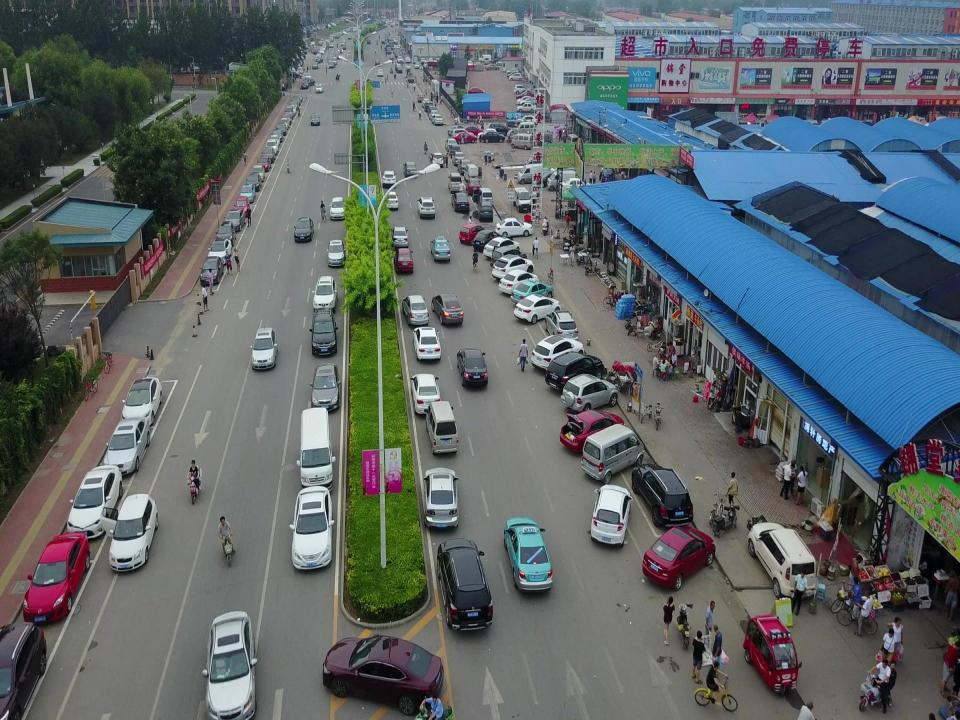car: (322, 636, 444, 710), (24, 532, 88, 620), (747, 520, 817, 597), (642, 517, 716, 587), (438, 539, 494, 629), (209, 609, 255, 718), (630, 463, 692, 526), (67, 465, 122, 536), (109, 494, 157, 571), (503, 517, 552, 591), (294, 487, 332, 566), (103, 416, 149, 473), (591, 485, 627, 546), (117, 377, 162, 424), (424, 468, 458, 529), (545, 353, 609, 385), (531, 337, 585, 364), (310, 363, 340, 409), (514, 293, 562, 321), (311, 310, 338, 355), (456, 349, 488, 386), (543, 305, 578, 338), (411, 375, 441, 412), (492, 255, 536, 278), (252, 327, 276, 368), (498, 268, 540, 291), (414, 327, 442, 360), (431, 295, 465, 322), (511, 280, 555, 300), (402, 295, 430, 323), (481, 234, 521, 253), (490, 246, 528, 266), (314, 276, 336, 310), (473, 228, 513, 244), (495, 218, 533, 234), (201, 256, 223, 283), (458, 222, 484, 242), (430, 238, 452, 260), (327, 240, 345, 266), (394, 248, 414, 270), (210, 241, 229, 264), (295, 218, 313, 240), (330, 197, 346, 221), (216, 221, 234, 242), (417, 196, 435, 216), (452, 194, 470, 212), (393, 226, 409, 246), (452, 132, 478, 144), (462, 122, 484, 136), (480, 130, 504, 142), (226, 209, 242, 227), (487, 121, 511, 133), (384, 191, 399, 210), (235, 197, 249, 216), (516, 115, 538, 126), (402, 161, 418, 176), (479, 203, 493, 220), (247, 174, 261, 190), (516, 102, 536, 113), (382, 170, 396, 185), (250, 165, 264, 180), (241, 185, 254, 201), (506, 118, 526, 128), (515, 96, 537, 105), (256, 154, 270, 168), (466, 178, 480, 192), (539, 132, 551, 148), (446, 124, 466, 133), (515, 89, 535, 98), (451, 151, 467, 162), (458, 159, 471, 172), (514, 84, 532, 93), (468, 86, 486, 95), (432, 153, 444, 166), (445, 136, 457, 148), (432, 114, 444, 125), (265, 140, 277, 151), (262, 148, 274, 159), (310, 113, 320, 126), (448, 147, 462, 156), (268, 136, 280, 146), (508, 72, 522, 80), (281, 112, 292, 122), (276, 123, 286, 134), (272, 129, 283, 139), (286, 104, 296, 114), (485, 64, 499, 71), (290, 70, 302, 78), (427, 104, 437, 113), (428, 110, 440, 117), (290, 100, 299, 109), (284, 107, 293, 116), (422, 100, 432, 108), (305, 78, 315, 86), (301, 80, 309, 89), (280, 117, 288, 126), (293, 93, 303, 100), (418, 93, 425, 103), (317, 83, 323, 93), (421, 99, 431, 105), (493, 57, 503, 63), (298, 48, 308, 54), (294, 55, 304, 60), (397, 55, 404, 62), (312, 61, 318, 69), (378, 68, 384, 76), (396, 65, 402, 73), (316, 56, 324, 62), (299, 51, 305, 59), (374, 58, 380, 65), (297, 66, 303, 73), (293, 98, 301, 103), (334, 53, 340, 59), (314, 56, 320, 62), (329, 63, 335, 68), (406, 56, 410, 63), (416, 62, 420, 69), (413, 56, 417, 63), (366, 39, 371, 44), (348, 34, 352, 40), (305, 73, 311, 77), (421, 57, 425, 63), (390, 53, 394, 59), (316, 53, 321, 57)
truck: (514, 187, 532, 212)
van: (582, 428, 644, 479), (300, 410, 334, 484), (424, 398, 458, 452), (513, 165, 549, 184), (547, 171, 577, 191), (511, 133, 532, 150), (447, 172, 463, 191), (516, 122, 536, 134), (567, 133, 580, 146), (479, 55, 491, 62), (331, 57, 337, 64), (484, 56, 489, 63)
